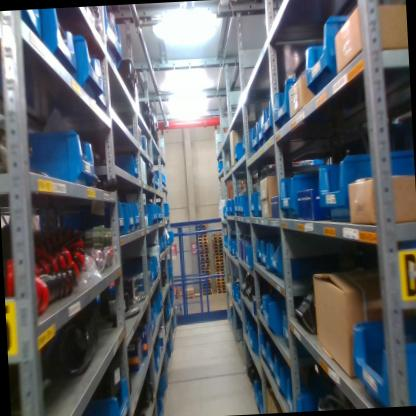pallet: (200, 280, 212, 286), (196, 222, 207, 228), (198, 242, 209, 248), (211, 242, 223, 247), (196, 230, 208, 235), (198, 249, 210, 254), (199, 255, 211, 260), (199, 263, 211, 268), (199, 269, 211, 274), (201, 287, 213, 292), (201, 290, 213, 295), (184, 287, 194, 293), (183, 291, 195, 296), (211, 238, 222, 243), (212, 247, 223, 252), (212, 251, 223, 256), (213, 257, 224, 262), (196, 226, 207, 231), (197, 236, 208, 241), (197, 239, 208, 244), (200, 273, 211, 278), (212, 244, 222, 249), (213, 254, 223, 259), (214, 264, 224, 269), (214, 270, 224, 275), (215, 277, 225, 282), (215, 280, 225, 285), (215, 283, 225, 288), (216, 289, 226, 294), (198, 247, 208, 252), (199, 252, 209, 257), (201, 284, 211, 289), (199, 260, 211, 264), (194, 291, 202, 297), (212, 230, 221, 235), (213, 261, 224, 265), (214, 274, 225, 278), (197, 234, 208, 238), (200, 277, 211, 281), (200, 279, 211, 283), (212, 235, 222, 239), (214, 267, 224, 271), (215, 286, 225, 290), (199, 267, 210, 270), (184, 295, 194, 298)
